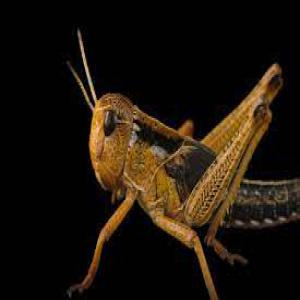locust: (69, 41, 300, 300)
